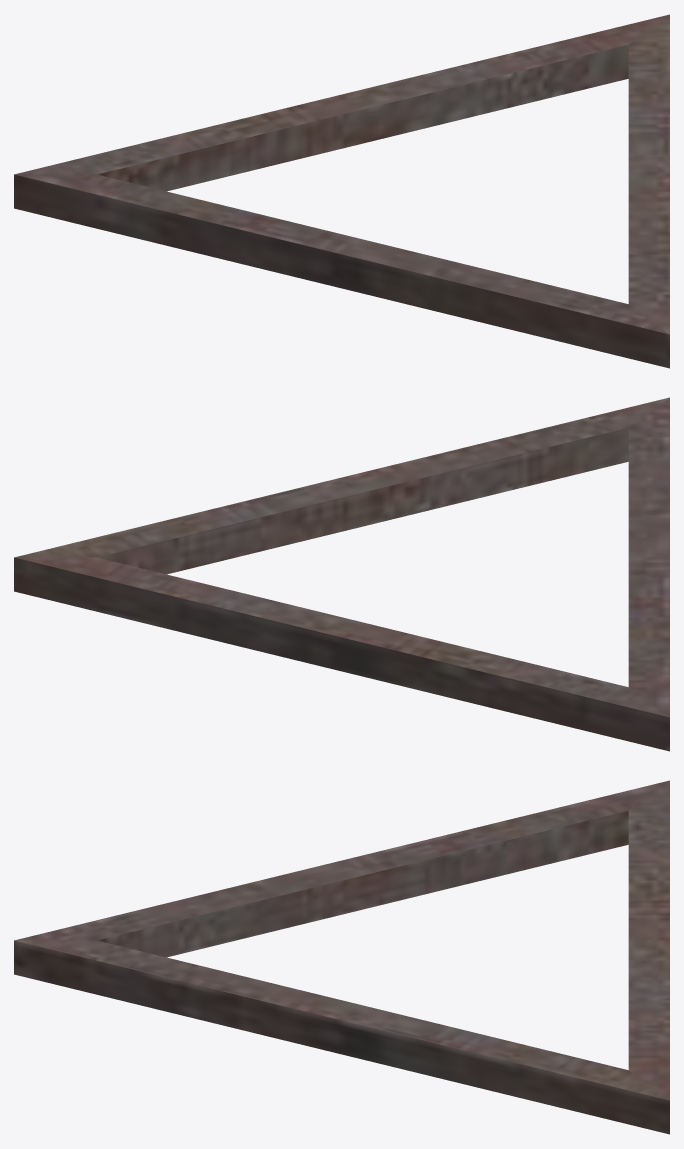
File: armored_floor_frame_triangle_textured.glb
3 renders of one model, top to bottom at view 1: azimuth 30°, elevation 25°; view 2: azimuth 150°, elevation 25°; view 3: azimuth 270°, elevation 25°, orthographic.
Parts seen in each view (by area): view 1: Circle.001; view 2: Circle.001; view 3: Circle.001.
Boxes of the visible parts, bbox=[...] form: Circle.001: bbox=[14, 14, 669, 368]; Circle.001: bbox=[14, 397, 669, 751]; Circle.001: bbox=[14, 780, 669, 1134].
Bounding box in the file's own units: 1.96 × 0.0969 × 1.69.
Materials: 1 (1 with a texture image).
